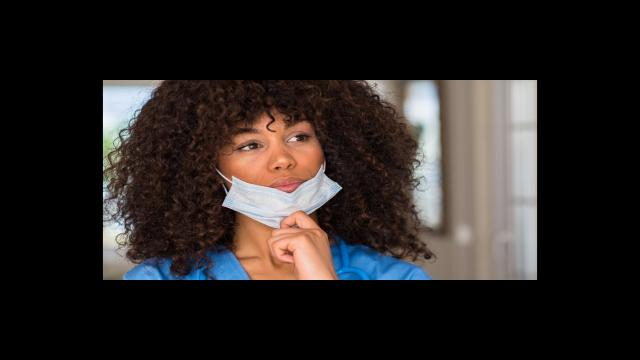mask_weared_incorrect: (226, 126, 332, 218)
